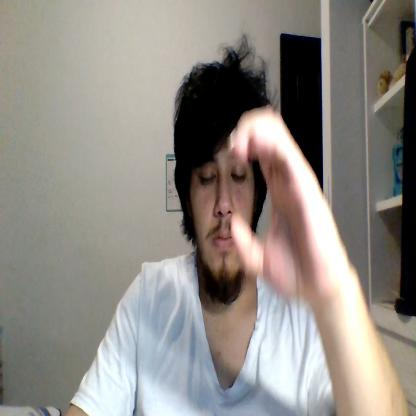C: (229, 107, 339, 299)
